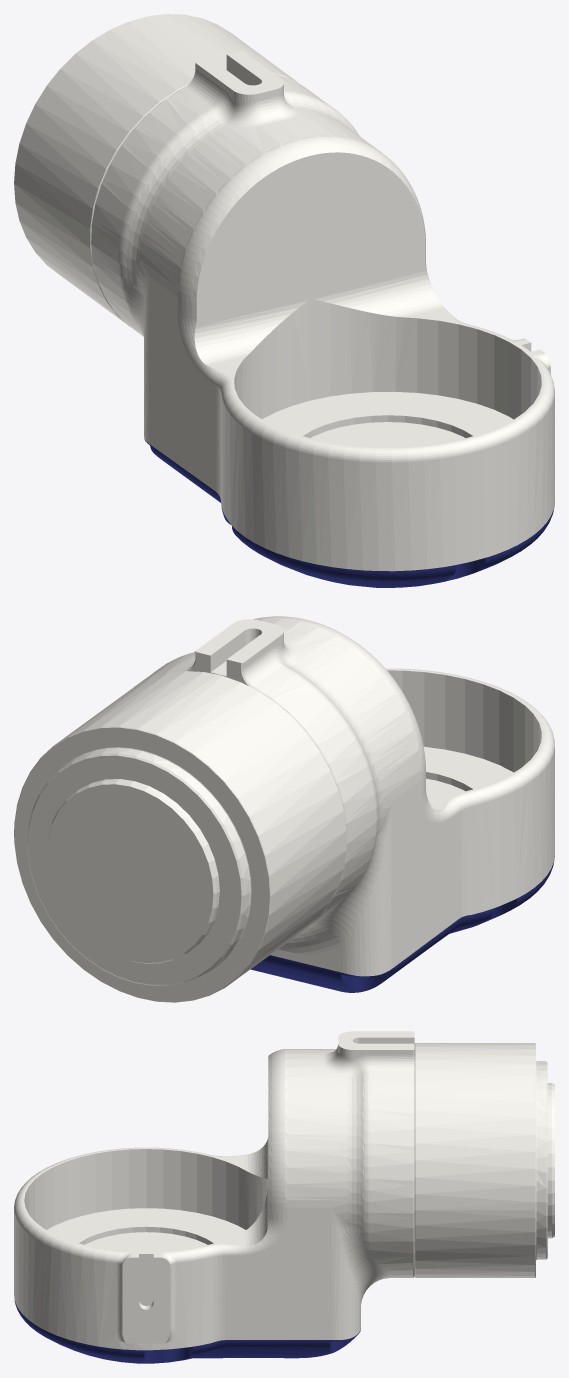
The picture shows the model from 3 angles, top to bottom: view 1: azimuth 30°, elevation 25°; view 2: azimuth 150°, elevation 25°; view 3: azimuth 270°, elevation 25°; orthographic projection. The views are drawn at different scales.
Visible parts, largest first — view 1: link_r_b; view 2: link_r_b; view 3: link_r_b.
Part boxes in pixels (bbox=[...]): link_r_b: bbox=[14, 14, 554, 587]; link_r_b: bbox=[14, 616, 554, 1002]; link_r_b: bbox=[14, 1031, 554, 1363].
Size of the model in its own units: 0.091 by 0.184 by 0.114.
Materials: 1 (1 with a texture image).
